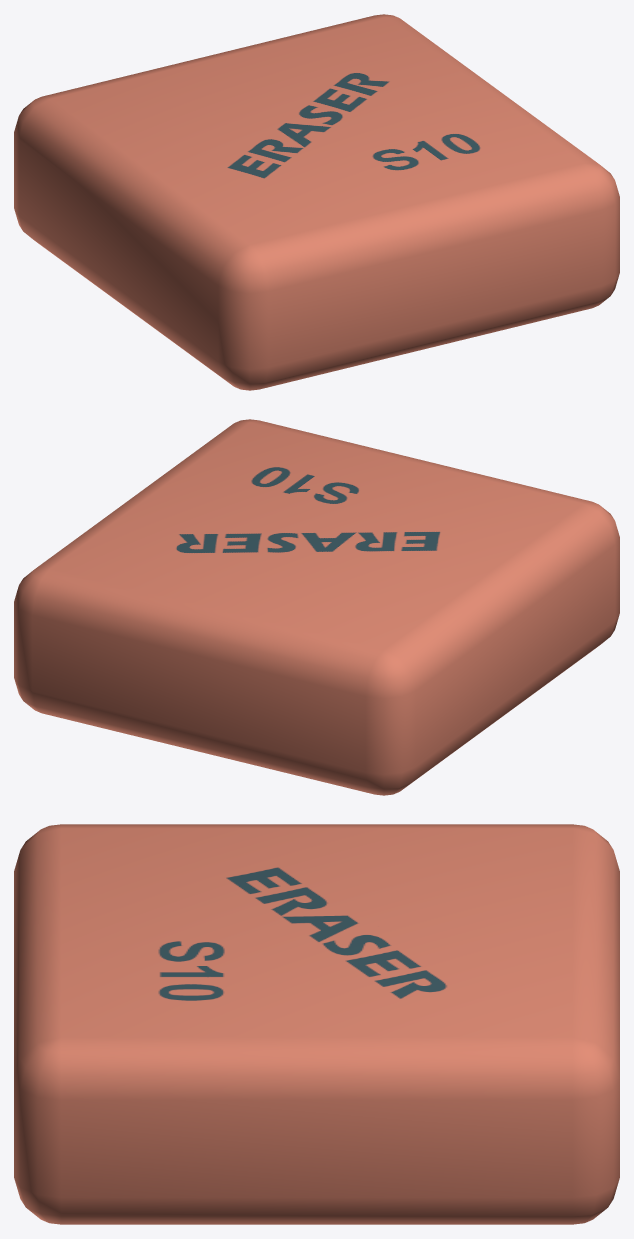
Rendered from Eraser.FBX.
3 renders of one model, top to bottom at view 1: azimuth 30°, elevation 25°; view 2: azimuth 150°, elevation 25°; view 3: azimuth 270°, elevation 25°, orthographic. The views are drawn at different scales.
Parts seen in each view (by area): view 1: eraser; view 2: eraser; view 3: eraser.
Part boxes in pixels (<box>): eraser: <box>14,14,619,390</box>; eraser: <box>14,419,619,795</box>; eraser: <box>14,824,619,1224</box>.
Bounding box in the file's own units: 2.81 × 0.963 × 2.89.
1 material, 1 textured.
